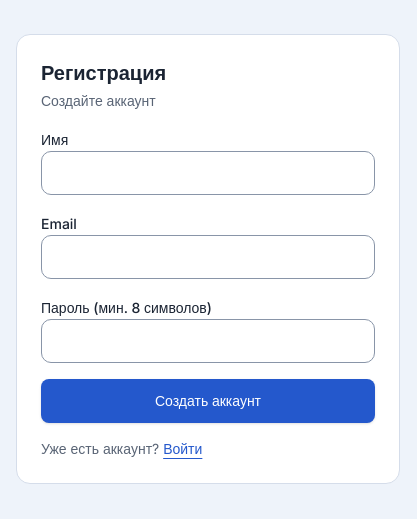
Test: authentication form states › keeps registration fields after a rejected request and announces the error
This screenshot has width=417, height=519.
In the field labelled "Имя": (208, 173) [41,151,375,195], type "Тестовый пользователь"
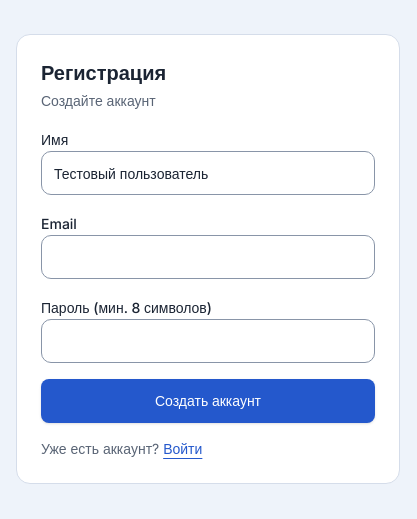
In the field labelled "Email": (208, 257) [41,235,375,279], type "synthetic@example.test"
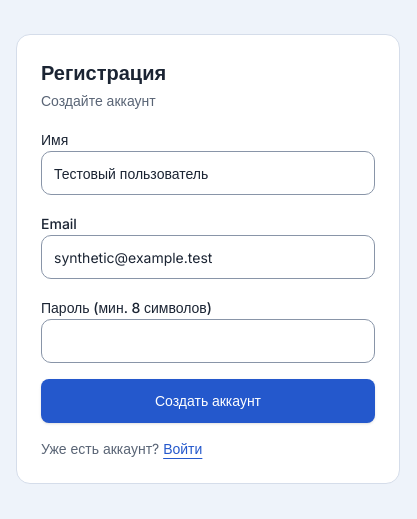
In the password field labelled "Пароль (мин. 8 символов)": (208, 341) [41,319,375,363], type "synthetic-passphrase"
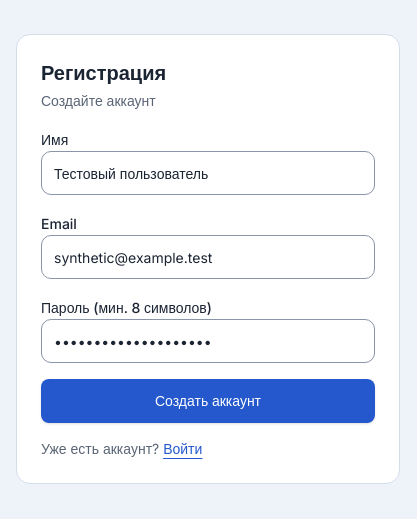
Submit the form "Создать аккаунт"
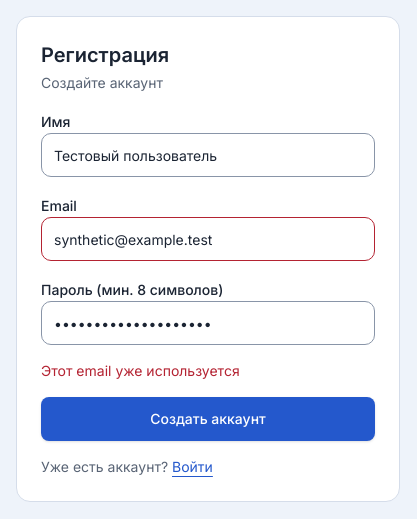
Expected: the button "Создать аккаунт" is enabled, [41,397,375,441]
Expected: the message reads "Этот email уже используется", [41,362,240,379]
